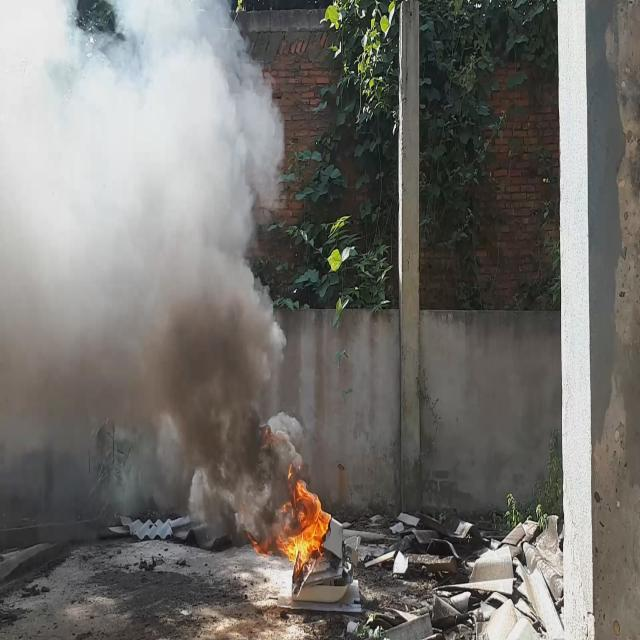Fire: (278, 474, 332, 568)
Smoke: (0, 0, 304, 546)
